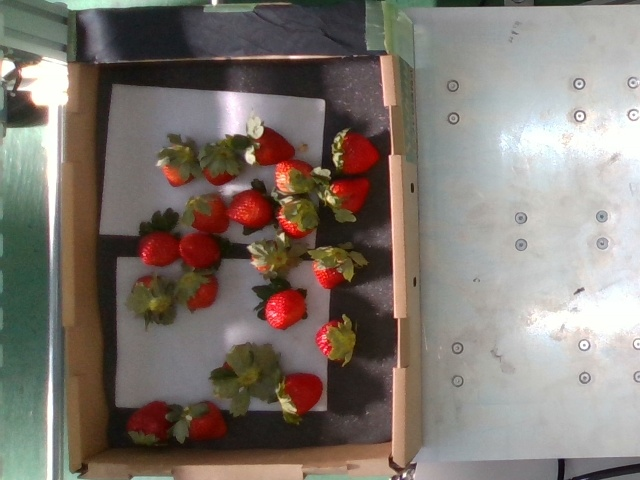strawberry: (126, 400, 174, 445), (225, 188, 274, 229), (248, 125, 296, 166), (332, 134, 380, 175), (281, 372, 322, 417), (277, 195, 319, 238), (184, 401, 229, 440), (224, 357, 267, 397), (265, 289, 307, 329), (202, 145, 242, 185), (316, 319, 355, 360), (189, 194, 229, 233), (137, 233, 181, 268), (327, 179, 371, 214), (159, 146, 196, 187), (179, 232, 220, 268), (314, 247, 347, 290), (132, 276, 171, 310), (181, 273, 218, 307), (252, 241, 287, 275)
